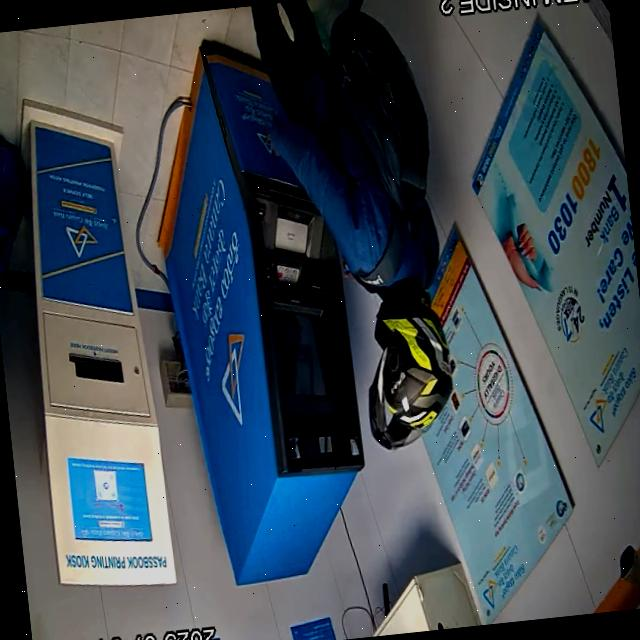helmet: (368, 285, 455, 450)
